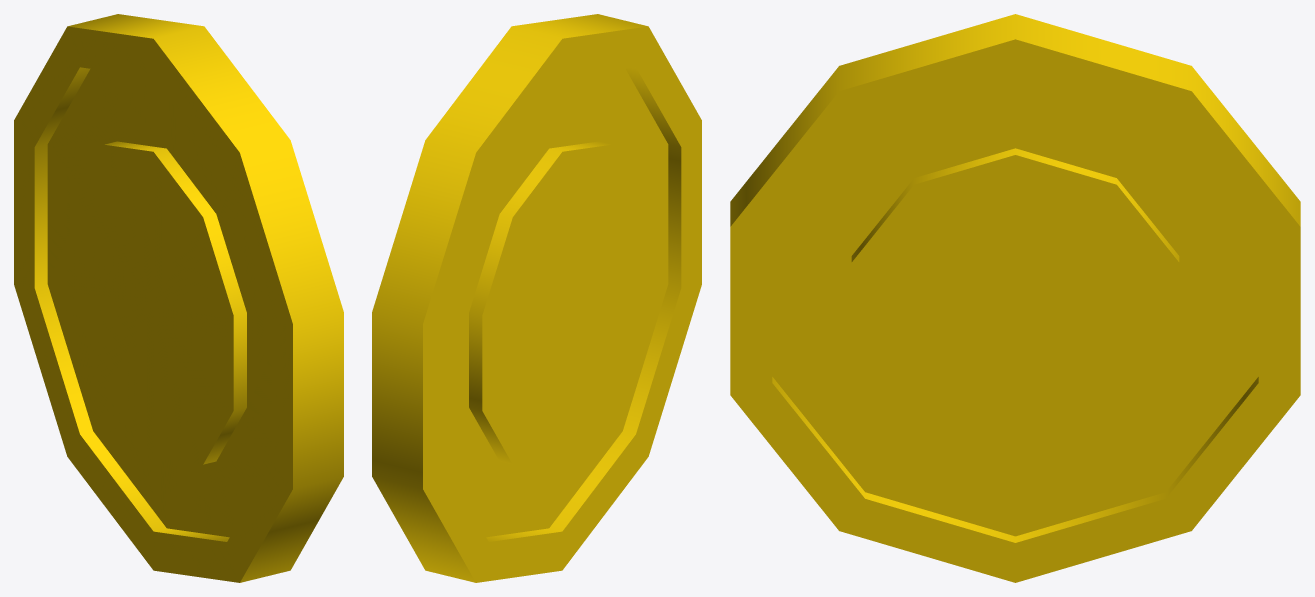
Rendered from Coin.fbx.
3 views of the same model, side by side, from view 1: azimuth 30°, elevation 25°; view 2: azimuth 150°, elevation 25°; view 3: azimuth 270°, elevation 25° (orthographic). The views are drawn at different scales.
Parts seen in each view (by area): view 1: Coin; view 2: Coin; view 3: Coin.
Boxes of the visible parts, <box> form: Coin: <box>14,14,343,582</box>; Coin: <box>372,14,701,582</box>; Coin: <box>730,14,1300,582</box>.
Size of the model in its own units: 10 by 100 by 95.11.
